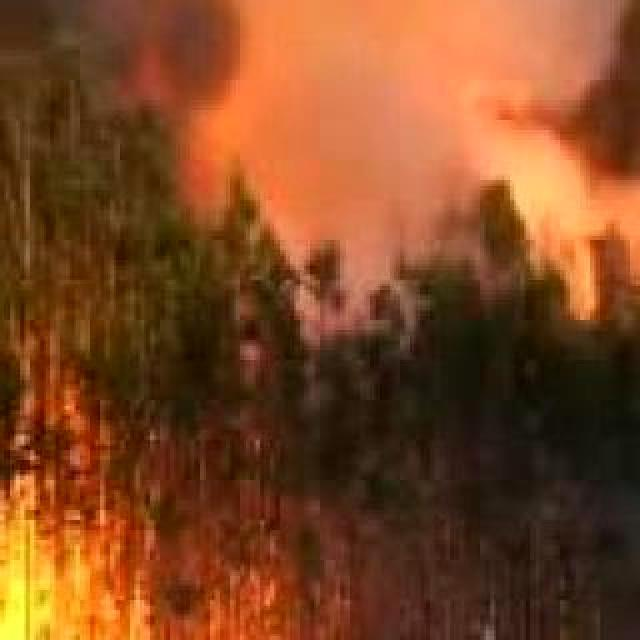fire: (0, 486, 318, 640)
